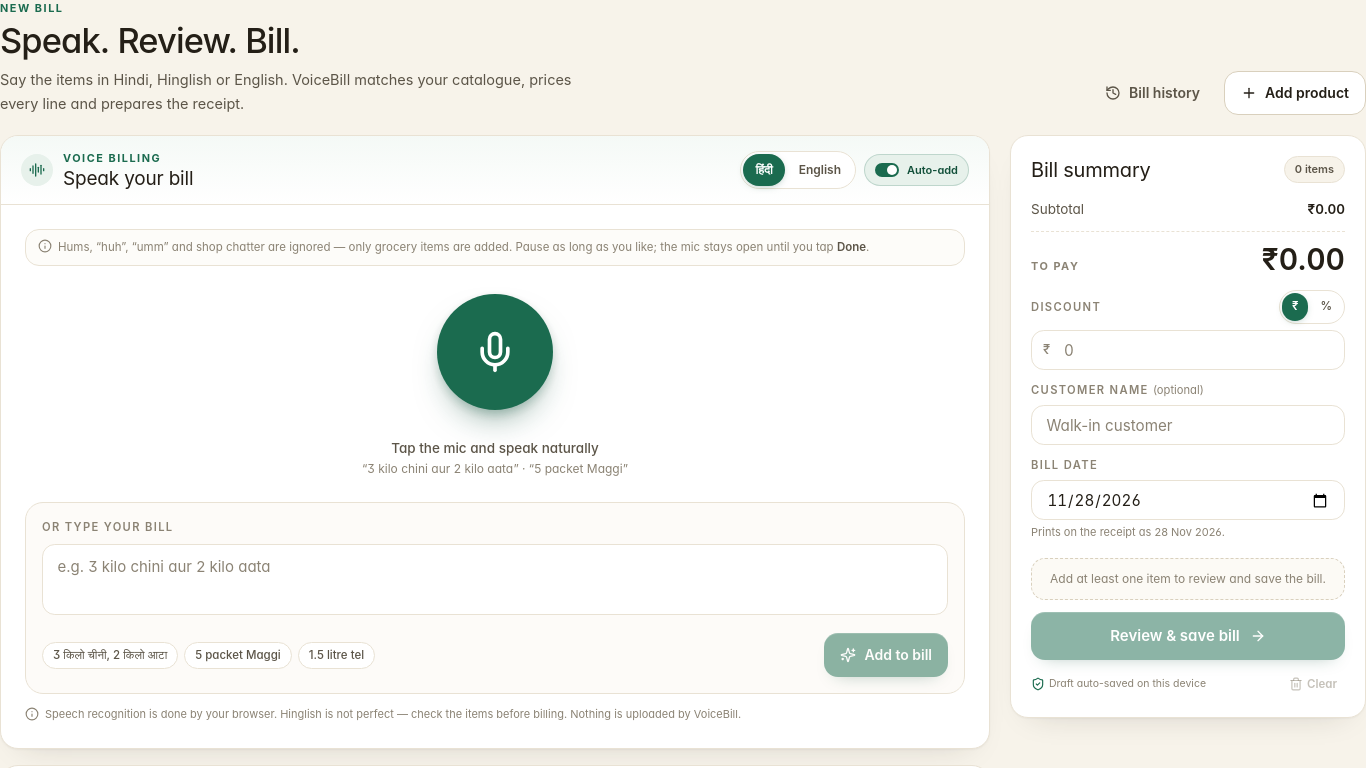
it: new bill workspace › does not add the same recognition result twice
Click the button named "start voice input".
click(495, 352)  # box [437, 294, 553, 410]
(page scrolled)
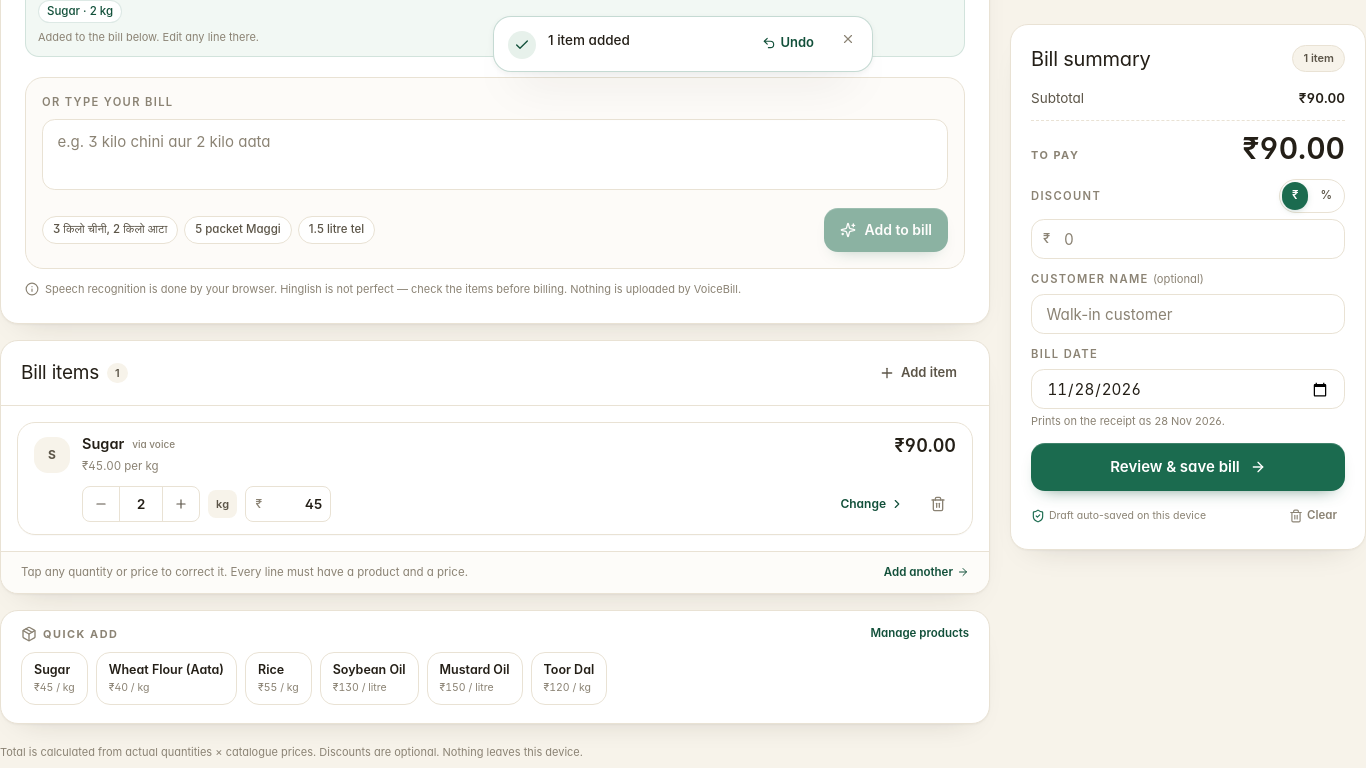
Check: the number of fields named "Quantity of Sugar" is 1, box [119, 487, 163, 521]
Check: the field named "Quantity of Sugar" holds "2", box [119, 487, 163, 521]
